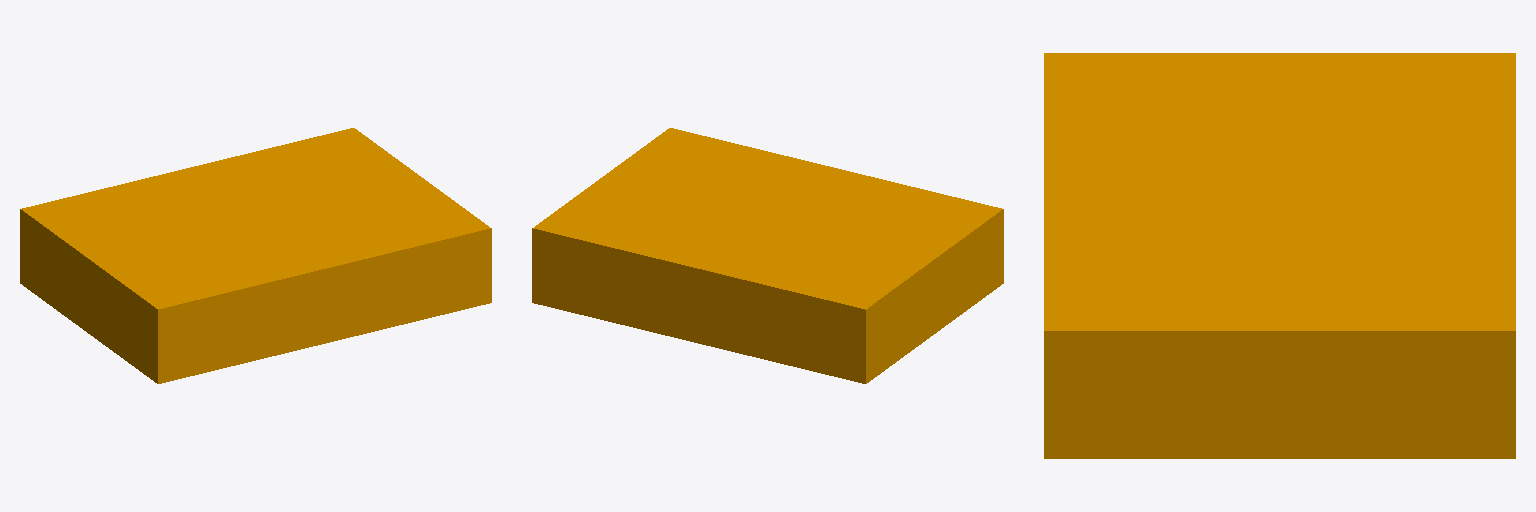
robot.urdf — textured_room:
<?xml version="1.0"?>
<robot name="textured_room">
  <link name="room">
    <visual>
      <origin xyz="0 0 0" rpy="0 0 0"/>
      <geometry>
        <mesh filename="room.obj" scale="1 1 1"/>
      </geometry>
    </visual>
    <collision>
      <origin xyz="0 0 0" rpy="0 0 0"/>
      <geometry>
        <mesh filename="room.obj" scale="1 1 1"/>
      </geometry>
    </collision>
    <inertial>
      <mass value="0"/>
      <inertia ixx="0" ixy="0" ixz="0" iyy="0" iyz="0" izz="0"/>
    </inertial>
  </link>
</robot>

--- What the picture shows (computed from the rendered views, not written in the file) ---
The picture shows the robot from 3 angles, left to right: view 1: azimuth 30°, elevation 25°; view 2: azimuth 150°, elevation 25°; view 3: azimuth 270°, elevation 25°; orthographic projection.
Robot: textured_room — 1 links, 0 joints (none); root link room; default pose: all joints at 0.
Links seen in each view (by area): view 1: room; view 2: room; view 3: room.
Link boxes in pixels (x1=…): room: x1=20, y1=128, x2=491, y2=383; room: x1=532, y1=128, x2=1003, y2=383; room: x1=1044, y1=53, x2=1515, y2=458.
Size in the robot's own frame: 14 by 10 by 3 metres.
Meshes: 1 distinct files referenced, 1 mesh visuals loaded (1 OBJ).
